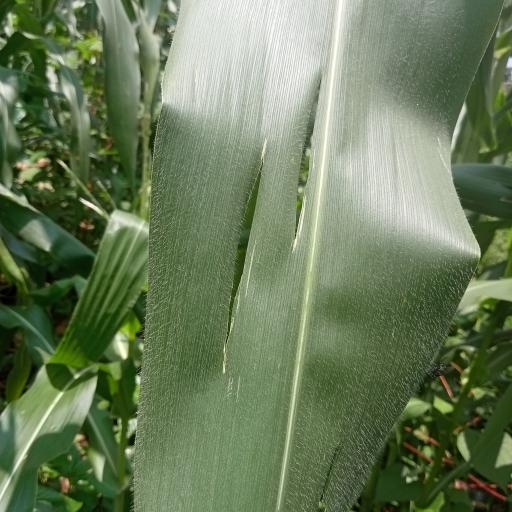Corn_Brown_Spots: (135, 0, 483, 512)
